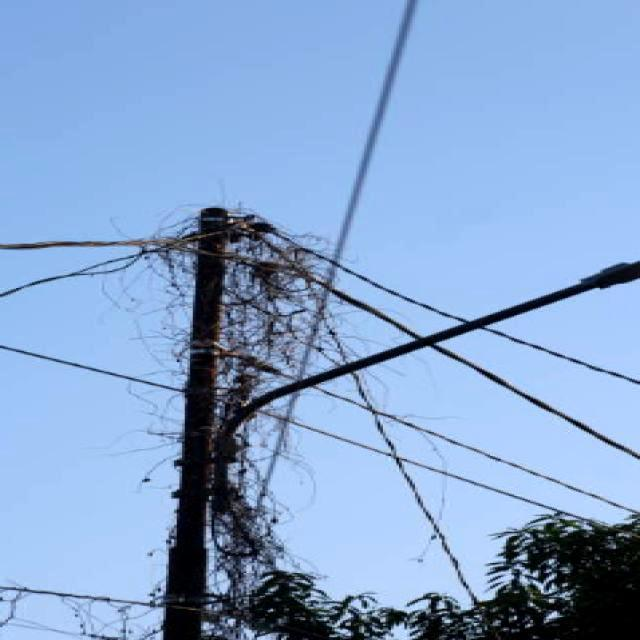critical vegetation: (166, 402, 292, 554), (176, 220, 322, 333)
